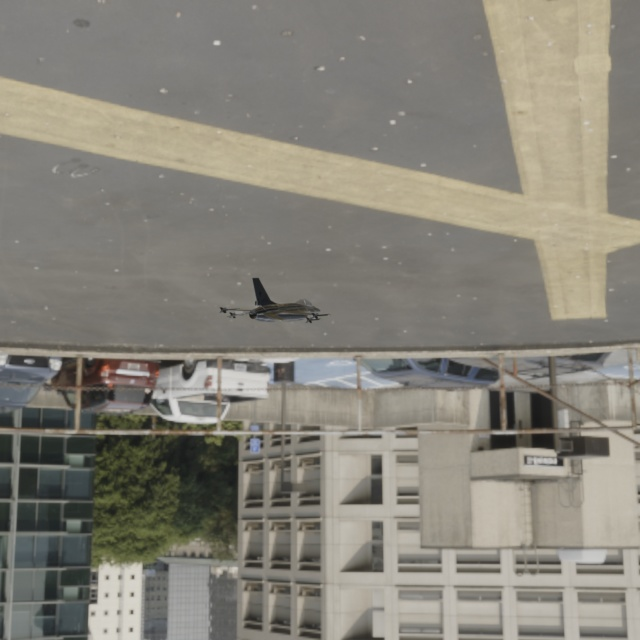model: (205, 275, 367, 328)
